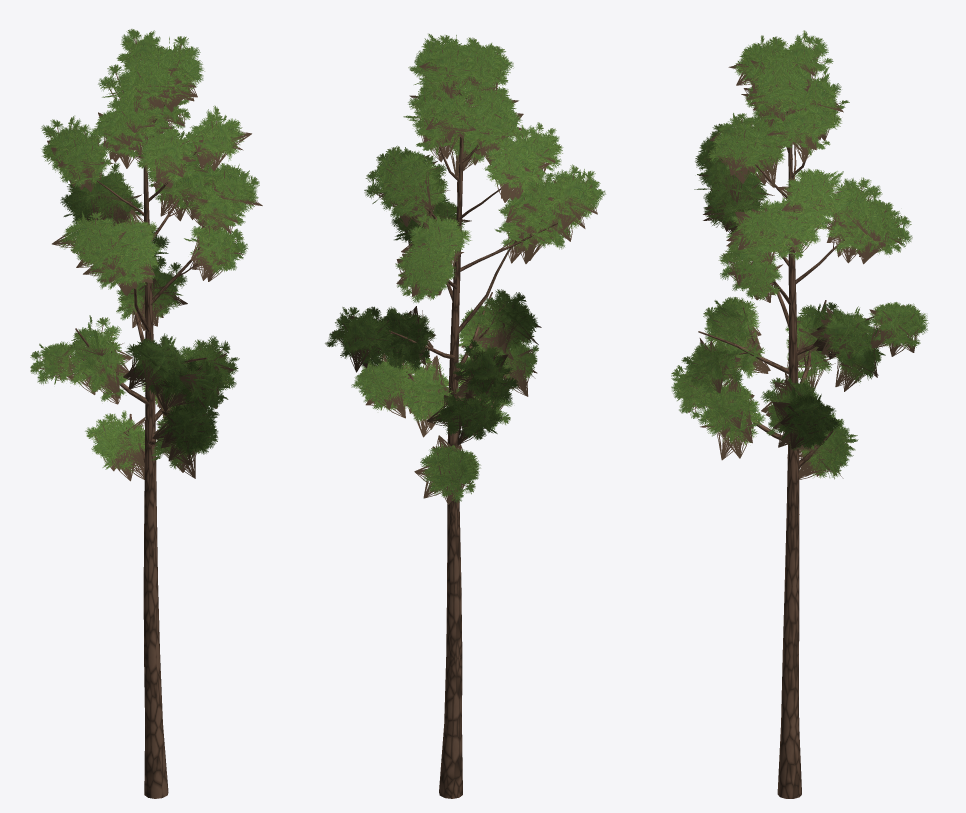
File: veg_loblolly_pine_b.fbx
3 views of the same model, side by side, from view 1: azimuth 30°, elevation 25°; view 2: azimuth 150°, elevation 25°; view 3: azimuth 270°, elevation 25° (orthographic).
Parts seen in each view (by area): view 1: veg_loblolly_pine_b_LOD0; view 2: veg_loblolly_pine_b_LOD0; view 3: veg_loblolly_pine_b_LOD0.
Part boxes in pixels (x1=…): veg_loblolly_pine_b_LOD0: x1=30, y1=29, x2=262, y2=798; veg_loblolly_pine_b_LOD0: x1=325, y1=33, x2=605, y2=798; veg_loblolly_pine_b_LOD0: x1=671, y1=30, x2=928, y2=798.
Size of what is drawn, in the model's own units: 7.3 by 22.49 by 7.9.
2 materials, 2 textured.
